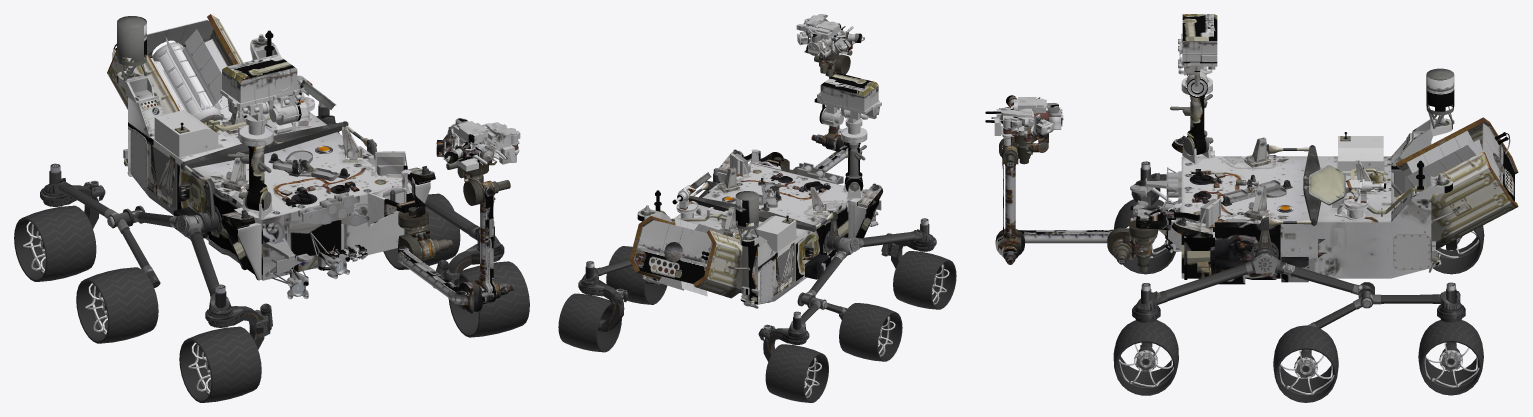
The model's file is rover_c4d_001.dae.
3 views of the same model, side by side, from view 1: azimuth 30°, elevation 25°; view 2: azimuth 150°, elevation 25°; view 3: azimuth 270°, elevation 25° (orthographic). The views are drawn at different scales.
Parts seen in each view (by area): view 1: chassis, body, wheel_02_R, wheel_03_R, wheel_01_R, RTG, wheel_01_L, ChemCam, arm_03_001, radiators, arm_R_B2, arm_02_001 (+20 smaller); view 2: chassis, body, wheel_01_R, wheel_02_R, wheel_03_R, wheel_03_L, radiators, ChemCam, wheel_02_L, steer_L_B, RTG, antenna_UHF (+18 smaller); view 3: chassis, body, radiators, wheel_02_L, wheel_03_L, wheel_01_L, ChemCam, arm_L_B2, RTG, arm_L_F, arm_02_001, arm_03_001 (+16 smaller).
Boxes of the visible parts, x1,y1,x2,y2 form: chassis: (117,38,435,280); body: (112,19,430,299); wheel_02_R: (76,267,158,343); wheel_03_R: (14,205,96,281); wheel_01_R: (179,326,261,402); RTG: (150,29,232,122); wheel_01_L: (448,261,529,337); ChemCam: (220,54,304,107); arm_03_001: (463,179,510,301); radiators: (107,14,243,114); arm_R_B2: (43,163,160,287); arm_02_001: (398,246,514,313); chassis: (637,150,882,304); body: (634,149,881,283); wheel_01_R: (893,251,956,309); wheel_02_R: (839,303,902,361); wheel_03_R: (765,344,828,402); wheel_03_L: (558,293,621,352); radiators: (629,216,742,298); ChemCam: (814,73,881,114); wheel_02_L: (606,246,667,304); steer_L_B: (578,280,628,331); RTG: (658,218,723,296); antenna_UHF: (735,191,758,241); chassis: (1171,118,1452,279); body: (1130,115,1514,284); radiators: (1395,117,1518,252); wheel_02_L: (1273,325,1338,402); wheel_03_L: (1418,320,1483,395); wheel_01_L: (1113,320,1178,395); ChemCam: (1179,14,1217,66); arm_L_B2: (1301,282,1461,351); RTG: (1406,130,1499,186); arm_L_F: (1135,254,1273,311); arm_02_001: (995,228,1113,264); arm_03_001: (998,138,1021,250).
Size of the model in its own units: 2.78 by 2.21 by 3.94.
Materials: 8 (7 with a texture image).
